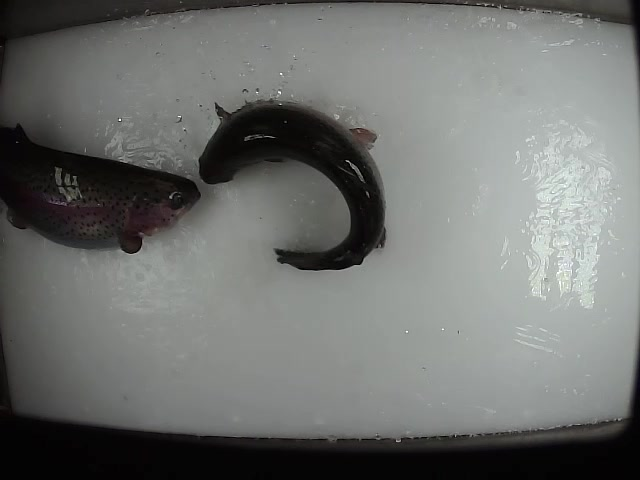fish: (198, 99, 389, 271), (1, 123, 200, 256)
